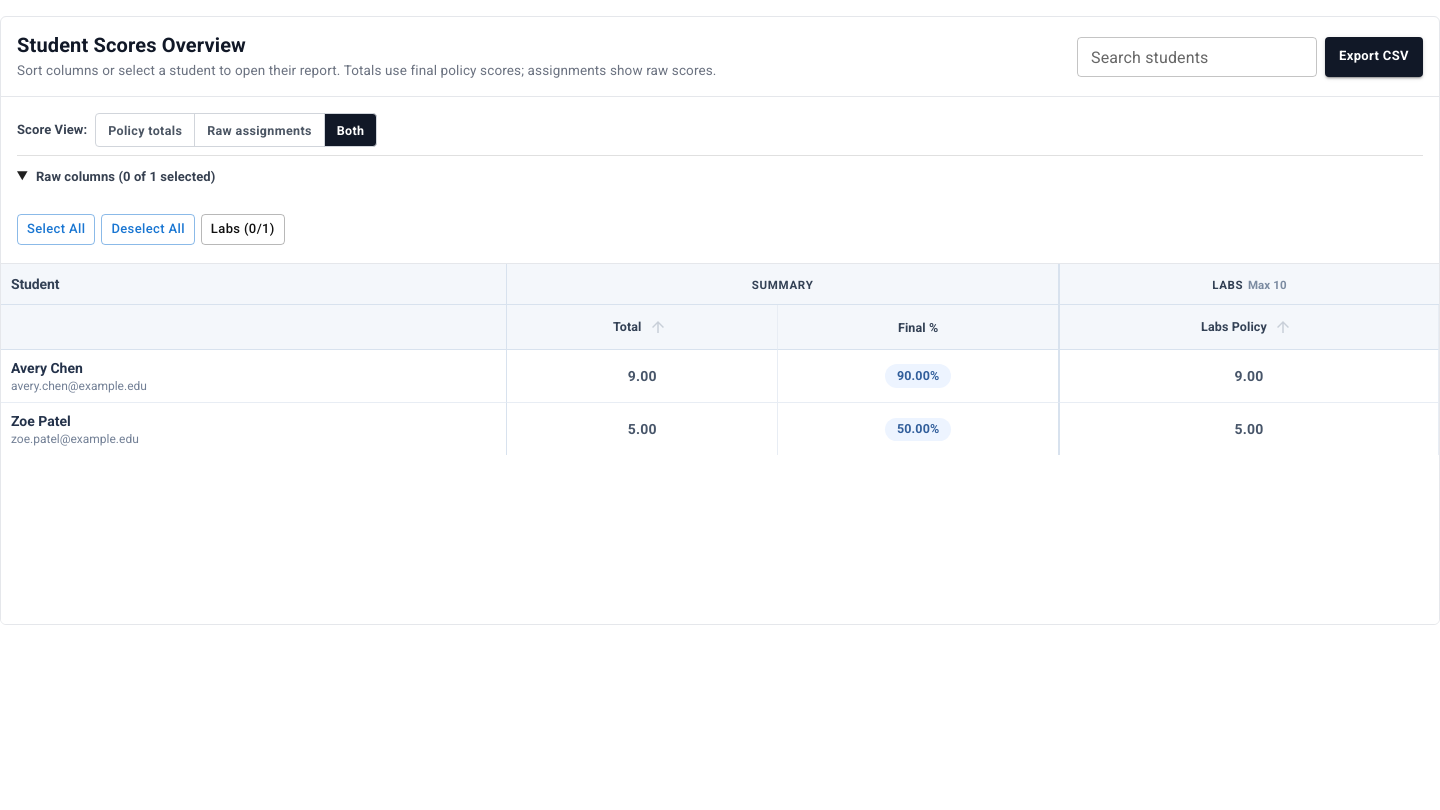
it: Admin section URL state › search filters by name or email and presents a clear empty state
This screenshot has width=1440, height=810.
Expected: the button with aria-label "View report for Avery Chen (avery.chen@example.edu)" is shown, x1=11 y1=359 x2=147 y2=394
Step 1. Type "zoe.patel" into the search field labelled "Search students" → (1197, 57), box x1=1077 y1=37 x2=1317 y2=77
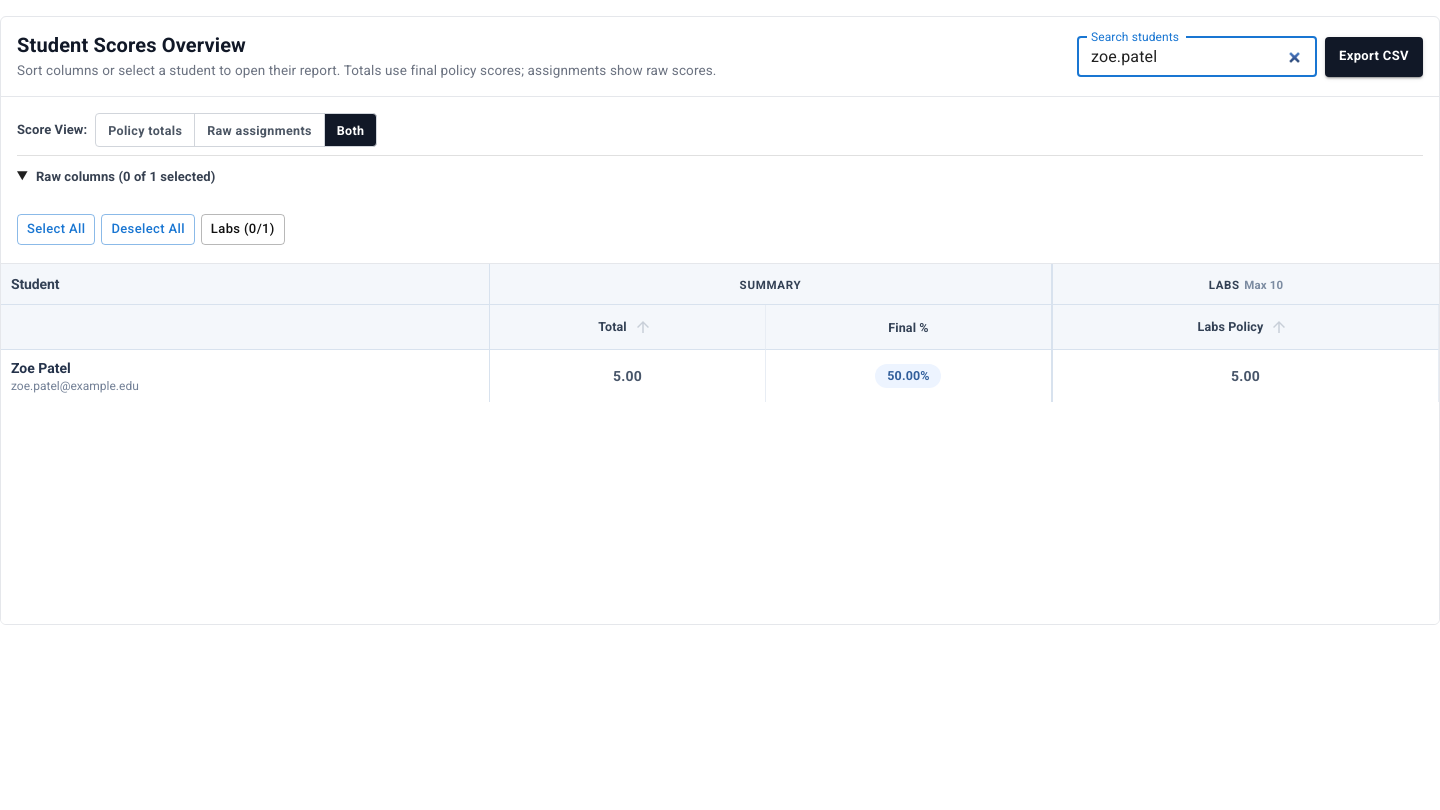
Expected: the button with aria-label "View report for Zoe Patel (zoe.patel@example.edu)" is shown, x1=11 y1=359 x2=139 y2=394
Step 2. Replace the text in the search field labelled "Search students" with "nobody@example.edu" → (1197, 57), box x1=1077 y1=37 x2=1317 y2=77
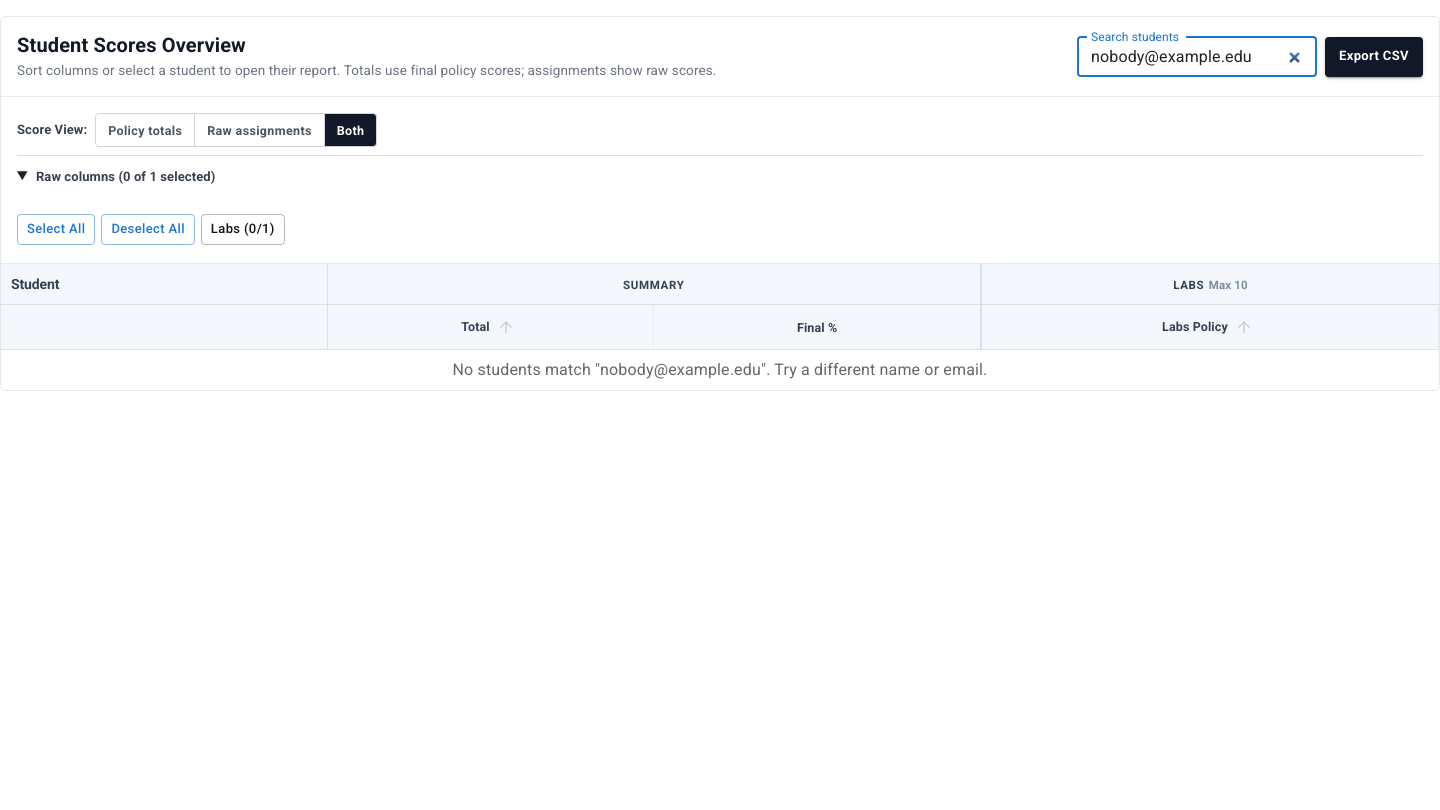
Expected: the button "Export CSV" is enabled, x1=1325 y1=37 x2=1423 y2=77
Now the message reads "No students match \"nobody@example.edu\". Try a different name or email.", box x1=452 y1=360 x2=988 y2=379
